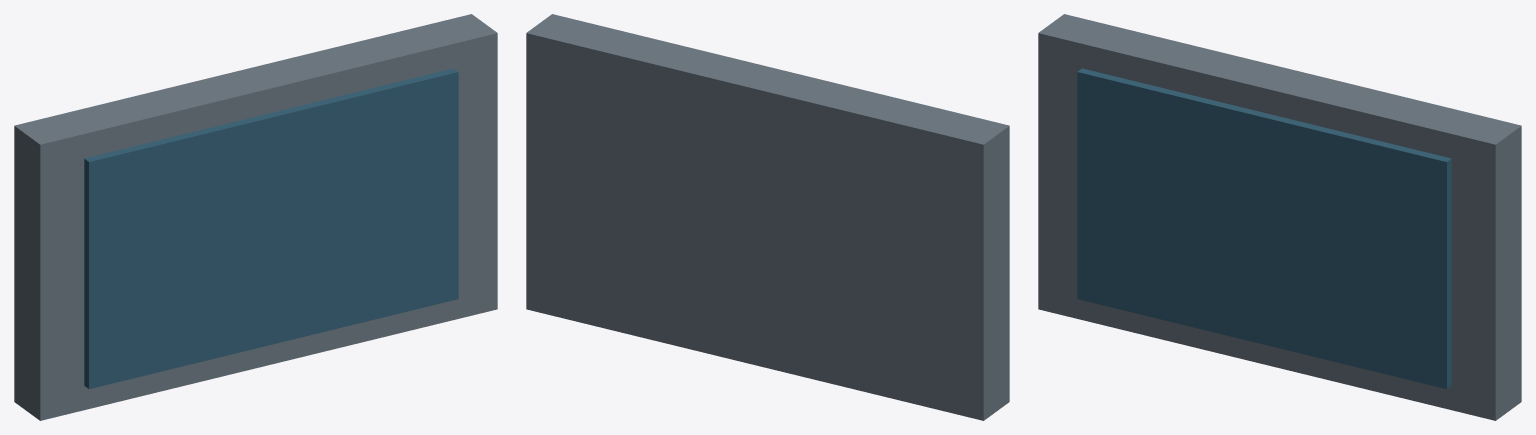
Rendered from cupola.window_05.glb.
3 renders of one model, left to right at view 1: azimuth 30°, elevation 25°; view 2: azimuth 150°, elevation 25°; view 3: azimuth 330°, elevation 25°, orthographic.
Parts seen in each view (by area): view 1: cupola.window_05.mesh_Coated_optical_glass, cupola.window_05.mesh_Machined_steel; view 2: cupola.window_05.mesh_Machined_steel; view 3: cupola.window_05.mesh_Coated_optical_glass, cupola.window_05.mesh_Machined_steel.
Part boxes in pixels (box(x1,y1,x2,y2)): cupola.window_05.mesh_Coated_optical_glass: box(84, 68, 458, 389); cupola.window_05.mesh_Machined_steel: box(14, 14, 497, 420); cupola.window_05.mesh_Machined_steel: box(526, 14, 1009, 420); cupola.window_05.mesh_Coated_optical_glass: box(1077, 68, 1451, 389); cupola.window_05.mesh_Machined_steel: box(1038, 14, 1521, 420).
Size of the model in its own units: 0.78 by 0.45 by 0.0915.
